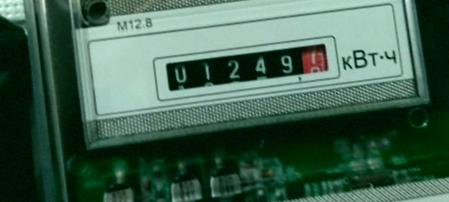0: (172, 63, 188, 84)
1: (199, 59, 213, 82)
2: (223, 57, 242, 81)
4: (252, 54, 268, 75)
7: (305, 44, 321, 65)
9: (278, 52, 294, 75)
screen: (148, 30, 344, 104)
